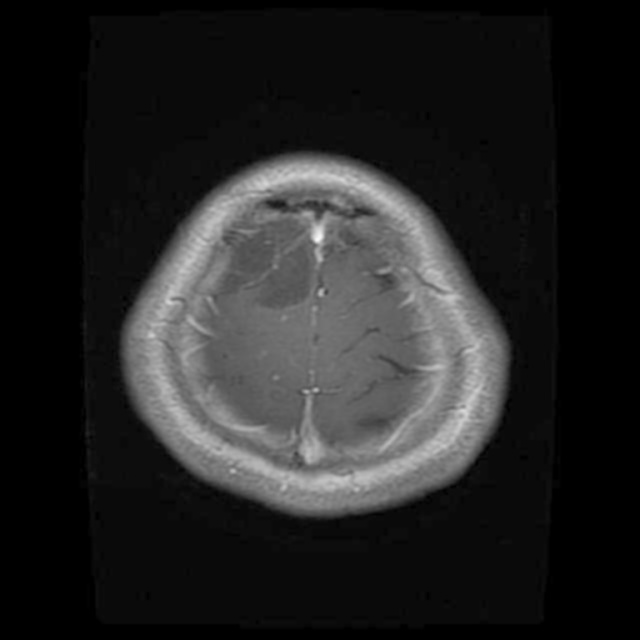pituitary tumor: (215, 216, 306, 302)
